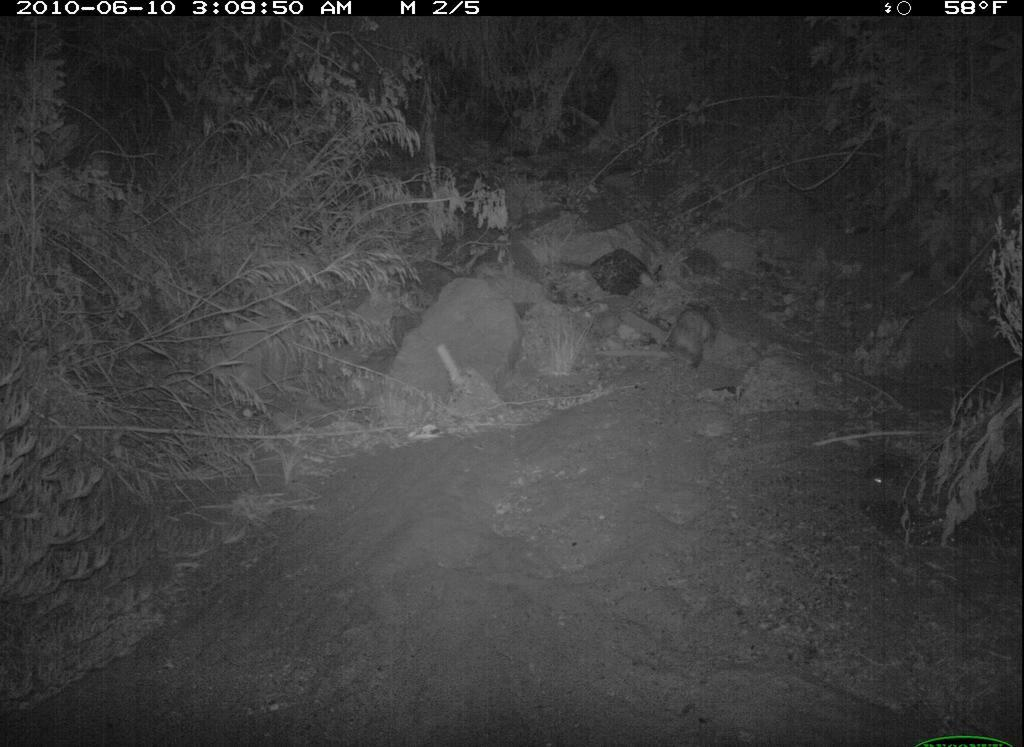opossum: (661, 292, 725, 374)
